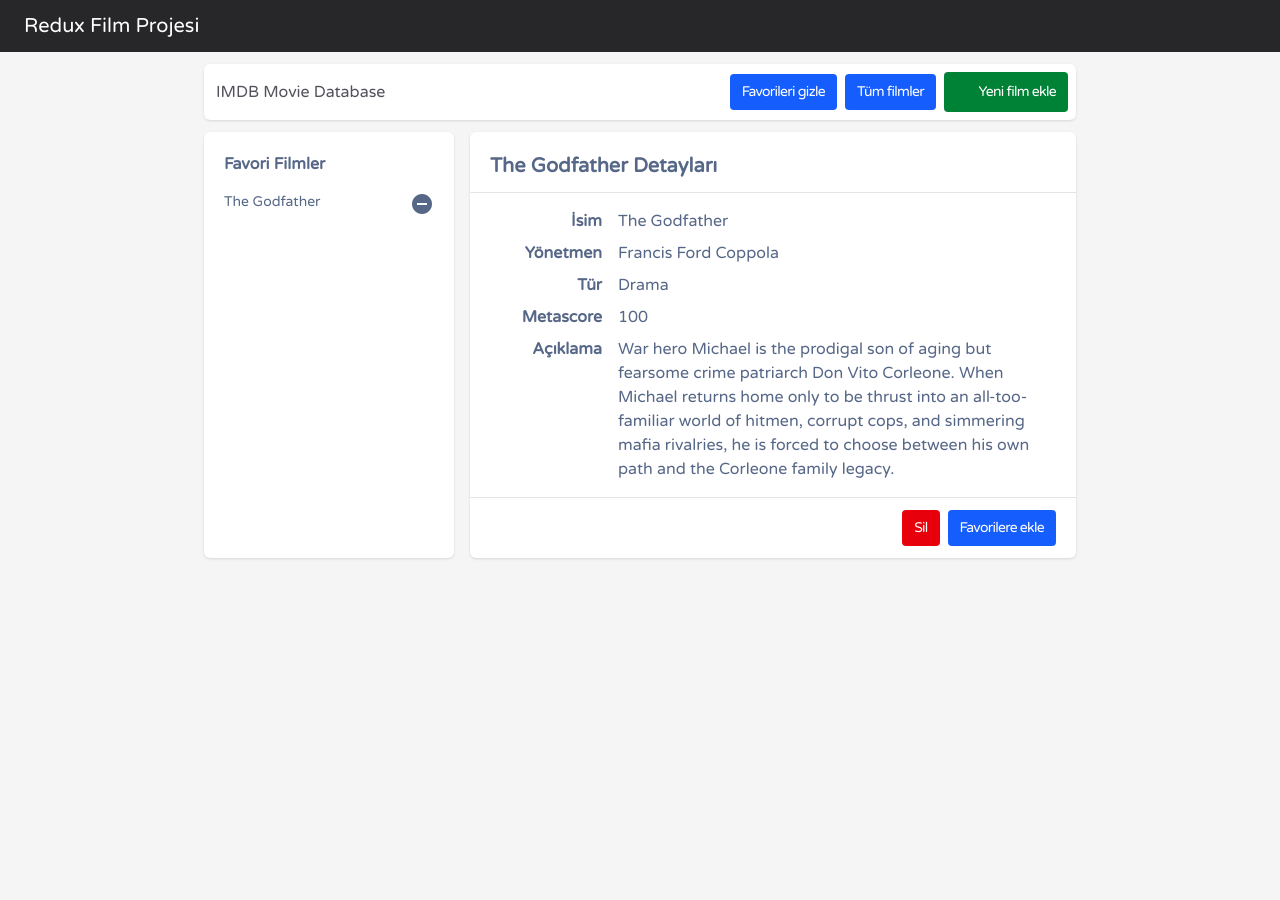
Sil butonu filmi siliyor ve tüm filmler sayfasına yönlendiriliyor mu?
Click the link "Tüm filmler". click: (890, 92)
box: [845,74,936,110]
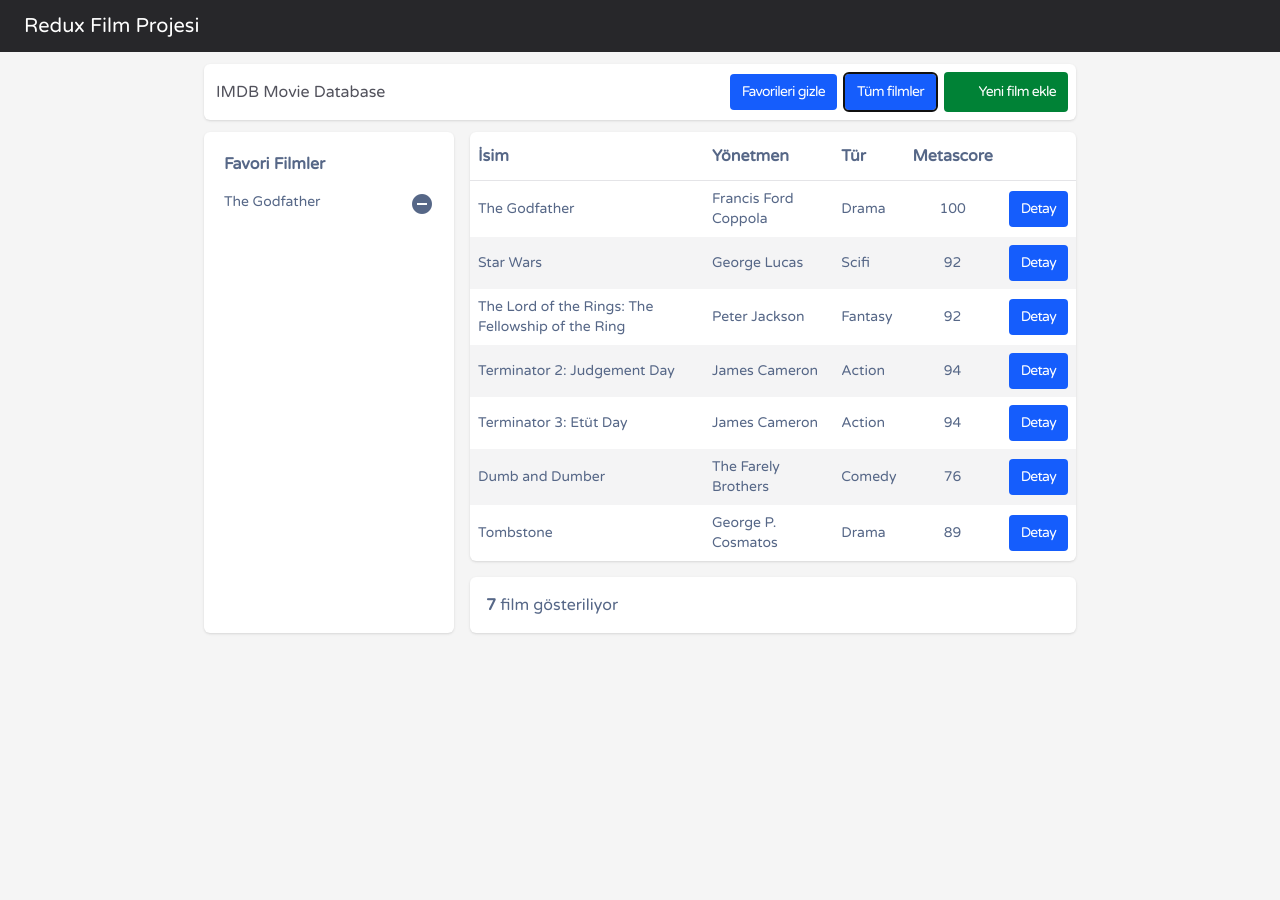
Click the link "Detay" in the row of "Star Wars". click: (1038, 263)
box: [1009,245,1068,281]
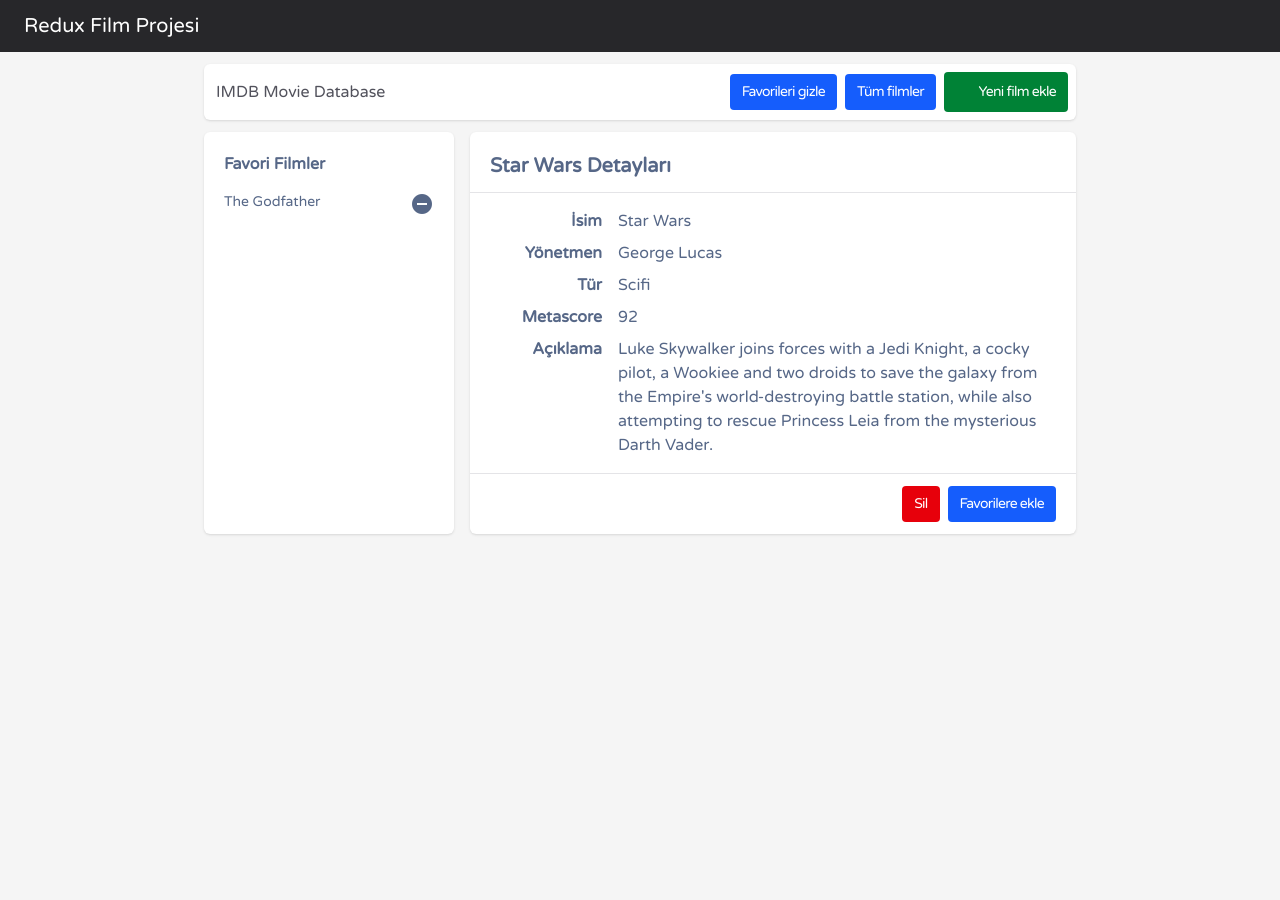
Check: the heading "Star Wars Detayları" is shown, box [490,154,671,178]
Click the button "Sil". click: (921, 504)
box: [902,486,940,522]
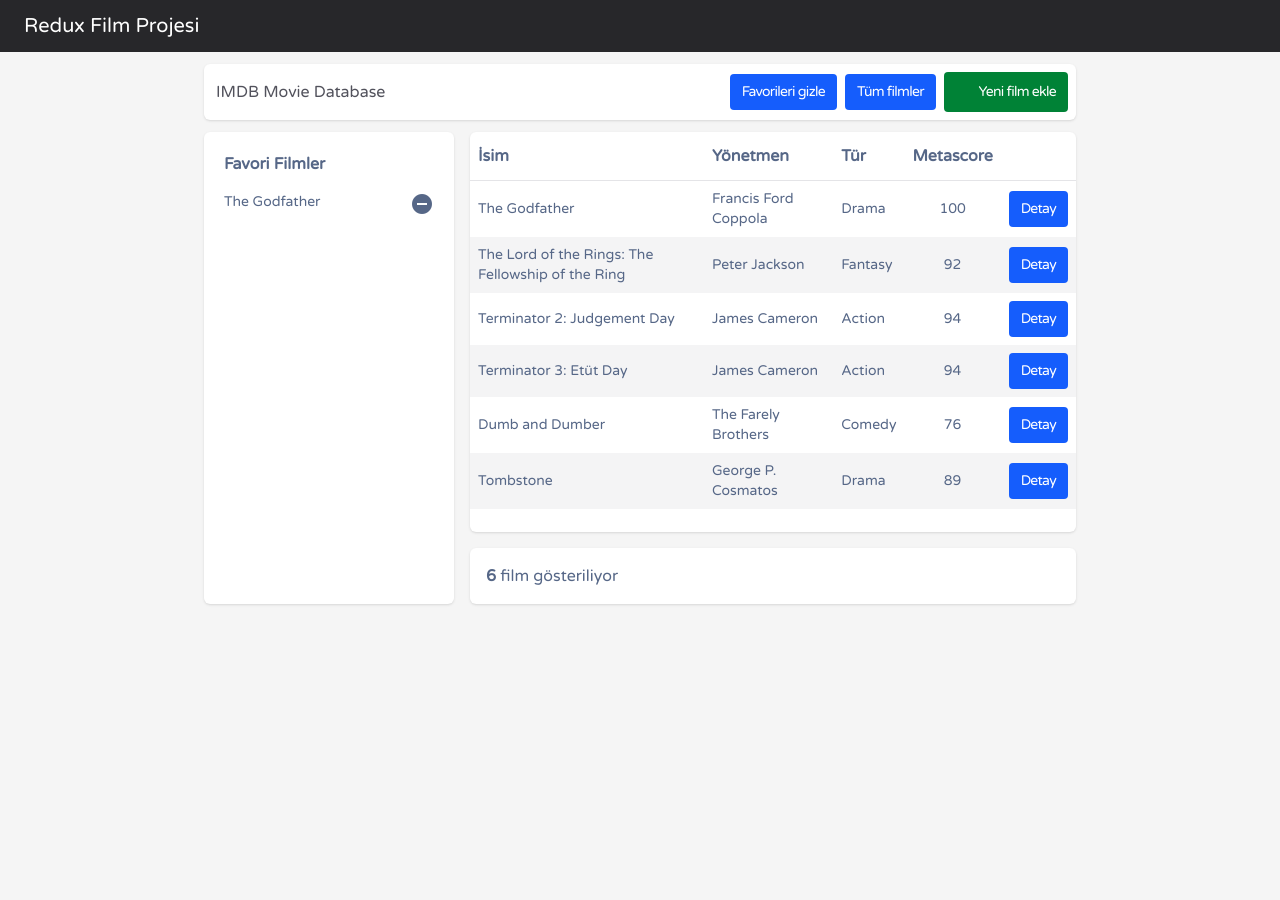
Check: the heading "Star Wars" is gone
Check: the text "Terminator 2: Judgement Day" is shown, box [470,293,704,345]
